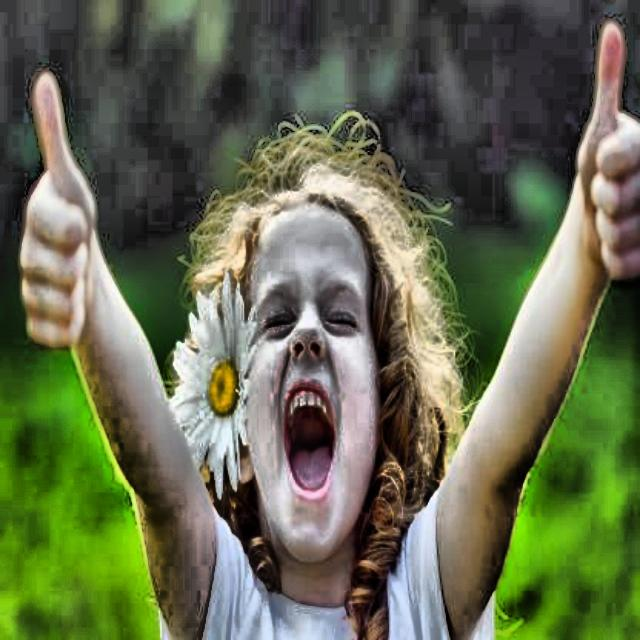happy: (180, 111, 443, 557)
